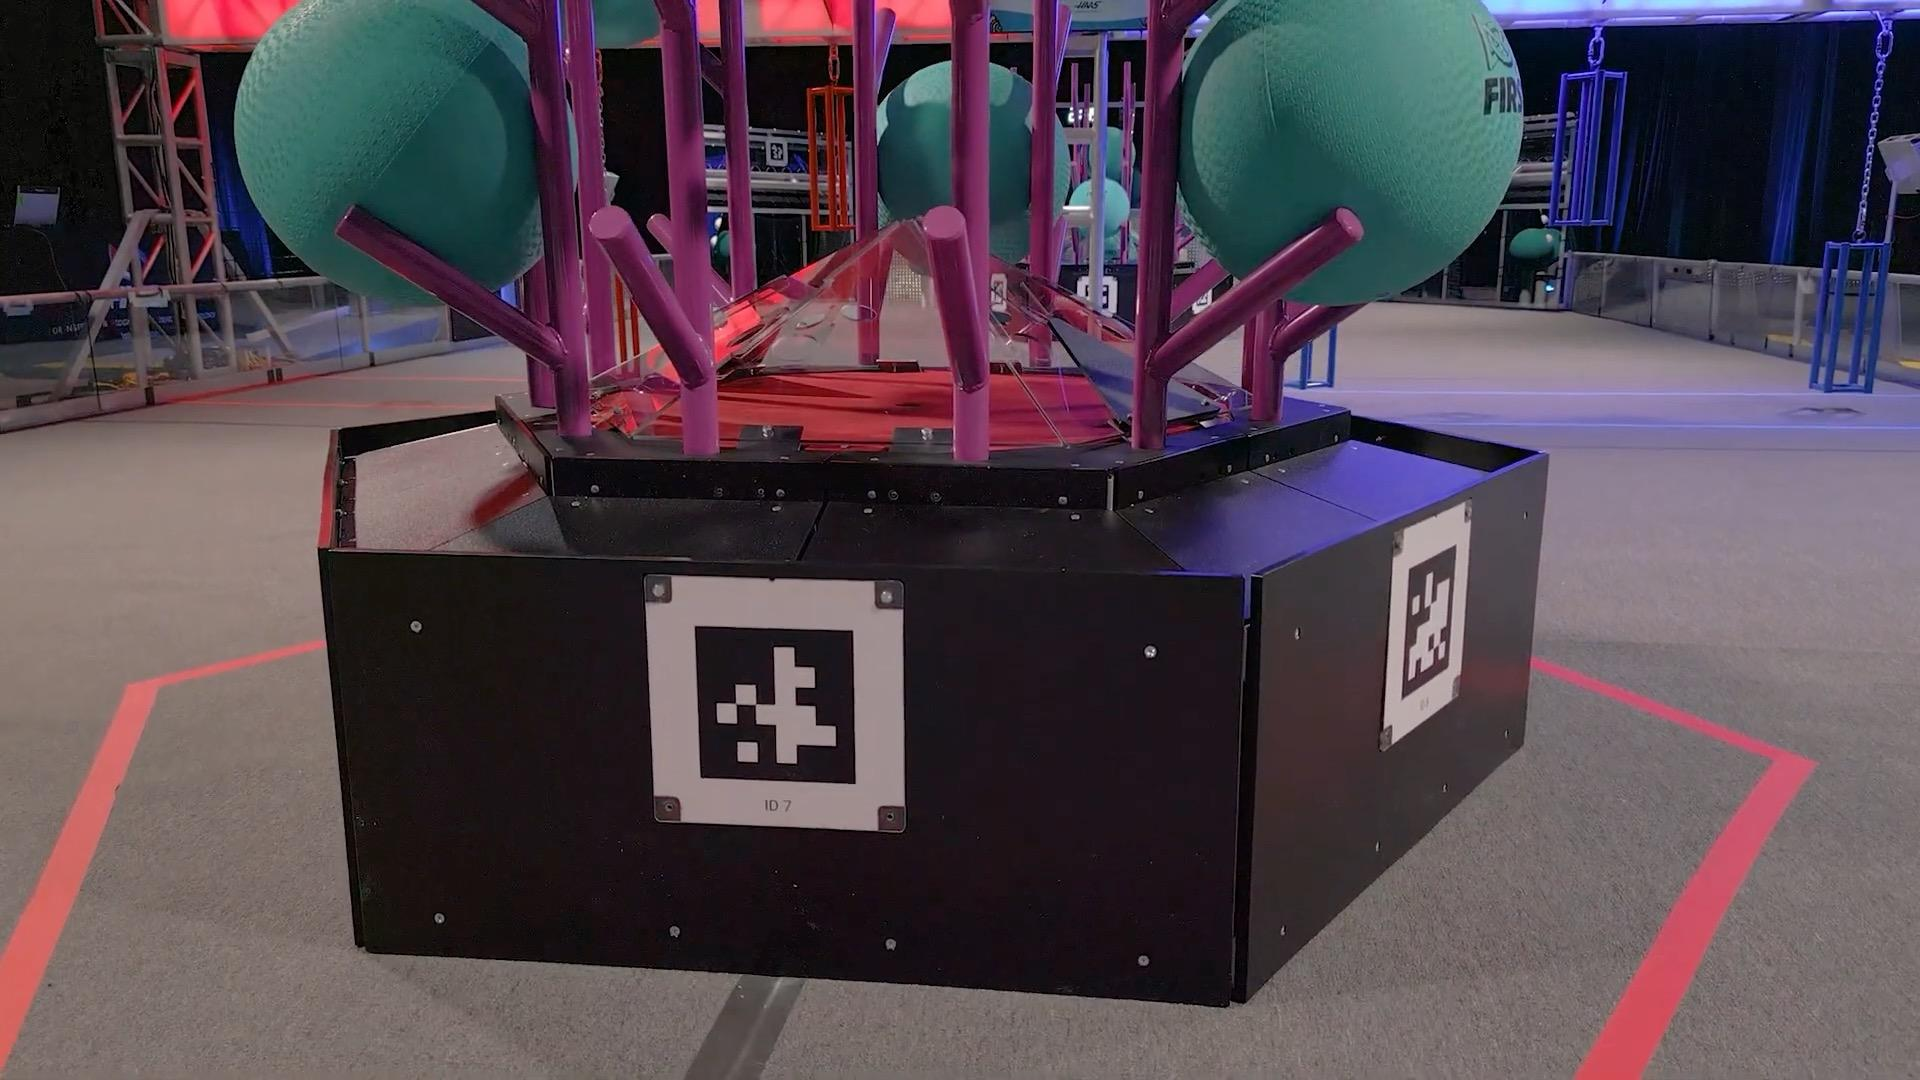ALGAE: (1174, 0, 1524, 307), (229, 0, 553, 309), (870, 57, 1056, 266), (1069, 123, 1139, 203), (1063, 175, 1129, 239)
